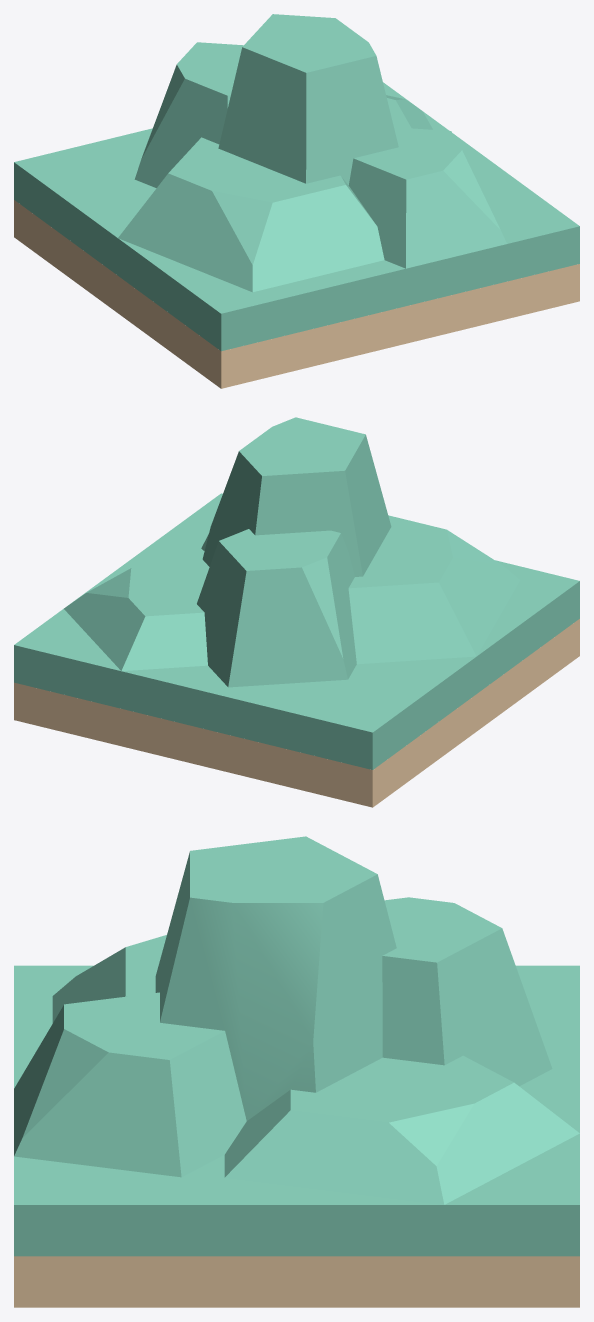
The model's file is tile_hill.glb.
The picture shows the model from 3 angles, top to bottom: view 1: azimuth 30°, elevation 25°; view 2: azimuth 150°, elevation 25°; view 3: azimuth 270°, elevation 25°; orthographic projection. The views are drawn at different scales.
Visible parts, largest first — view 1: rocks, tile_hill; view 2: rocks, tile_hill; view 3: rocks, tile_hill.
Part boxes in pixels (left/top/right/bottom): rocks: left=118, top=14, right=506, bottom=292; tile_hill: left=14, top=82, right=579, bottom=388; rocks: left=64, top=417, right=519, bottom=687; tile_hill: left=14, top=493, right=579, bottom=807; rocks: left=14, top=836, right=579, bottom=1204; tile_hill: left=14, top=965, right=579, bottom=1307.
Size of the model in its own units: 1 by 0.6186 by 1.
